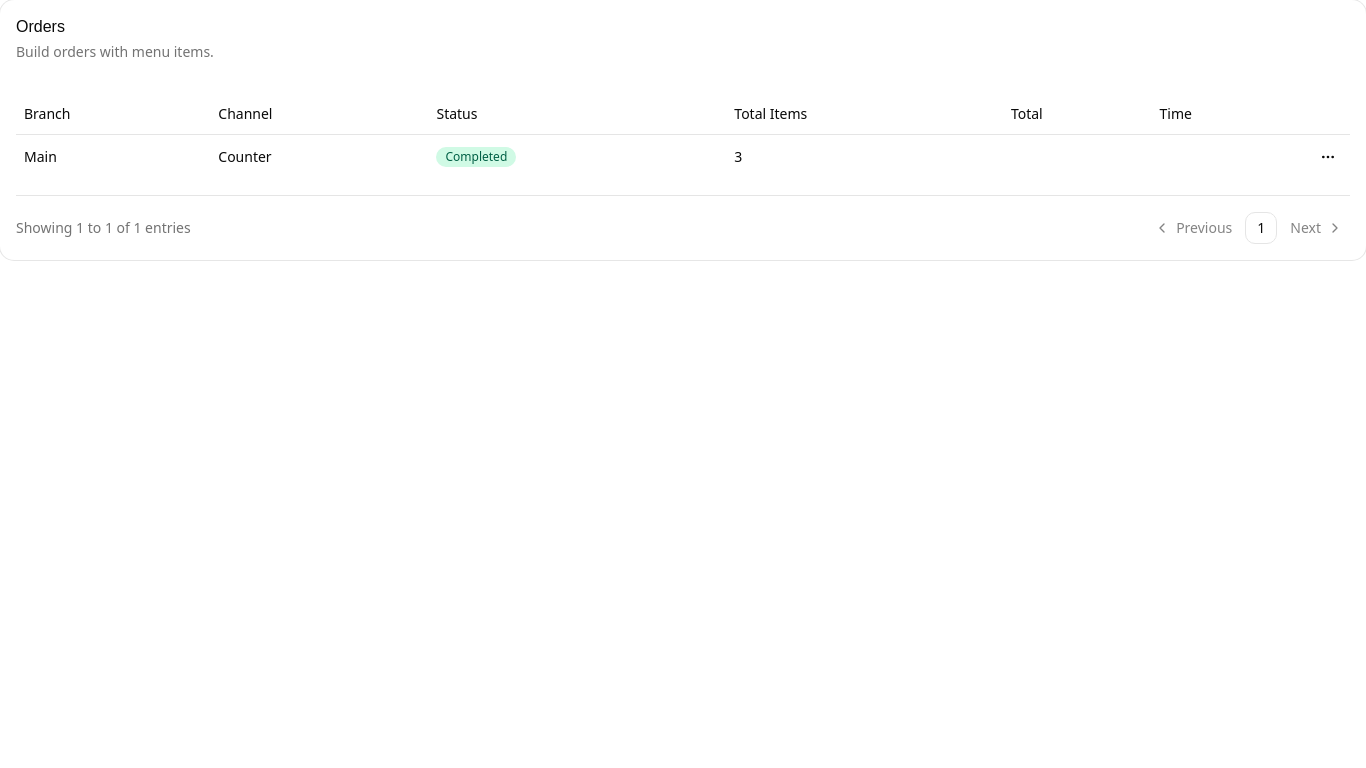
Order Invoice renders total for empty order
Click the button with test id "row-action-button}" at (1328, 156), box [1314,142,1342,170]
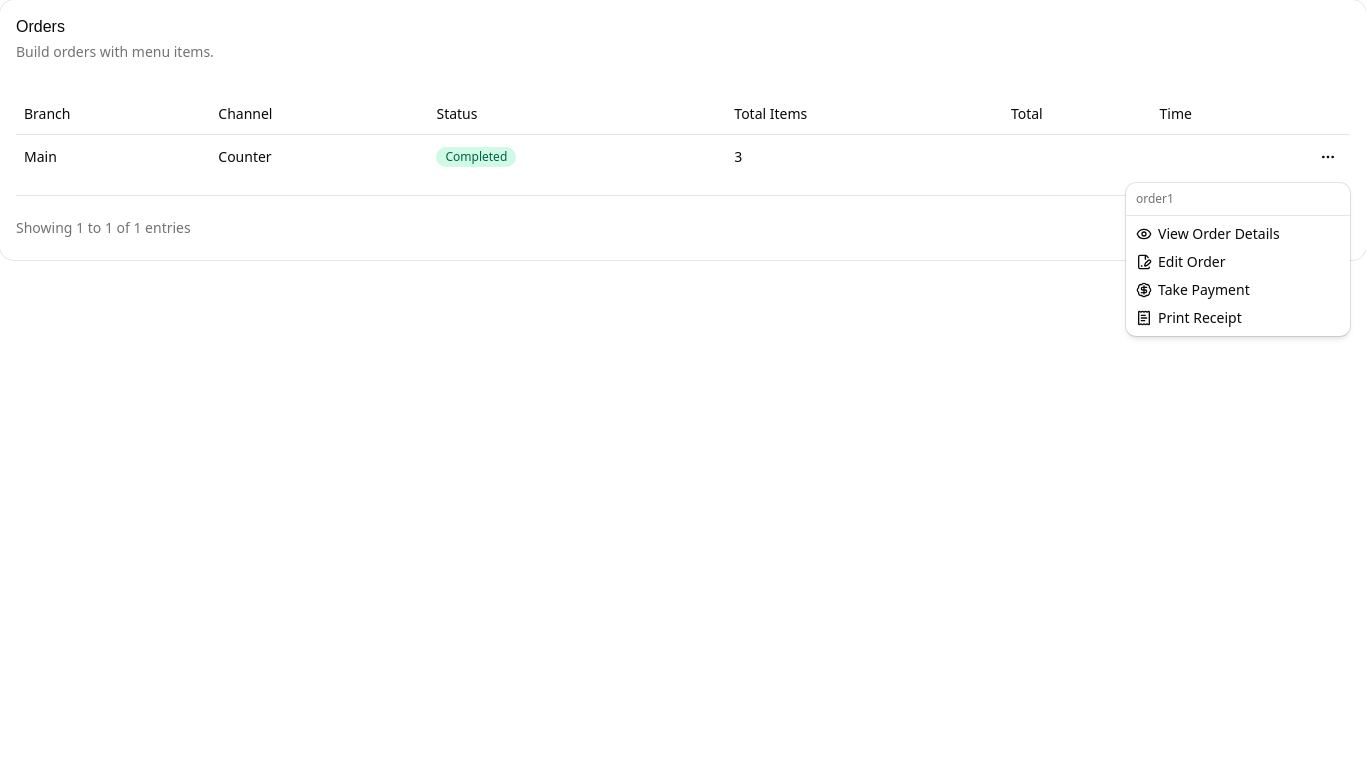
Click the menu item with test id "row-action-item-Print Receipt" at (1189, 318), box [1136,308,1242,327]
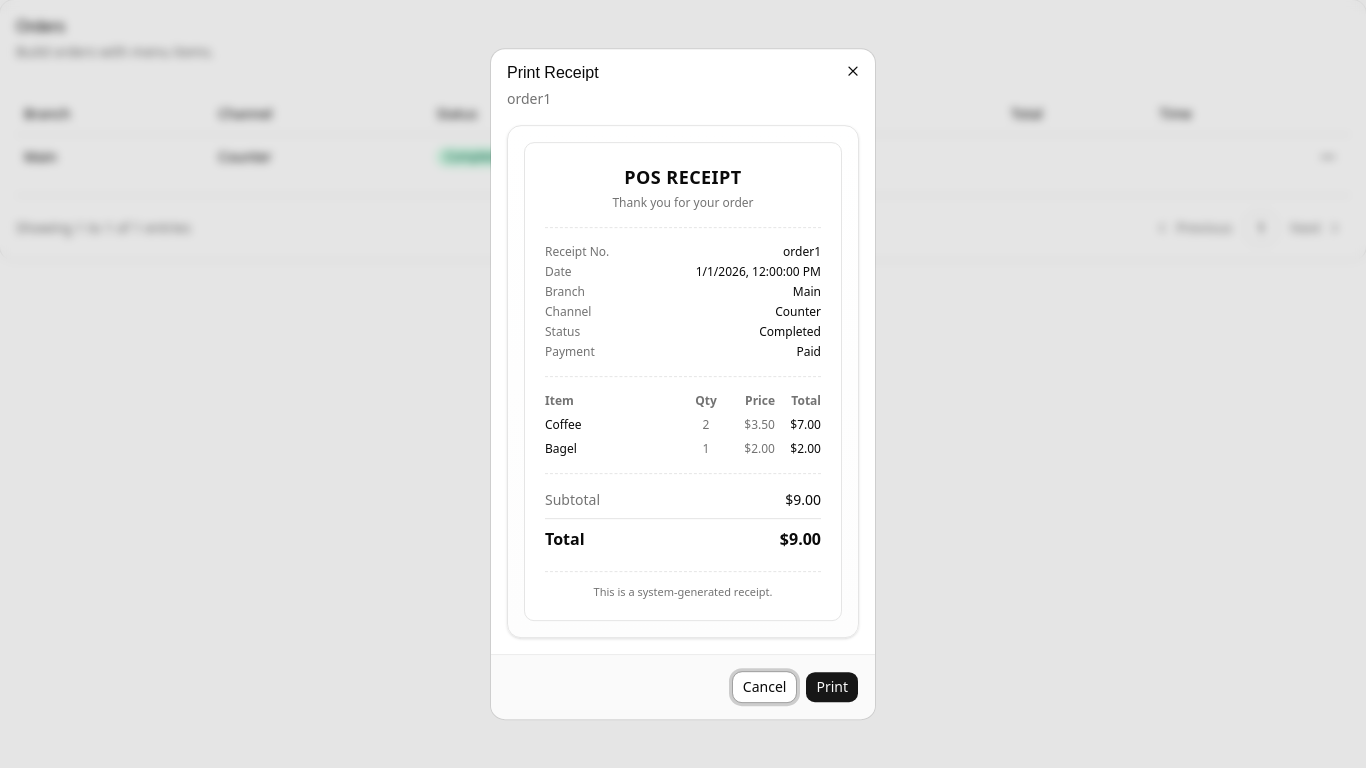
Expected: the text "Coffee" is shown, [545,416,582,433]
Expected: the text "Bagel" is shown, [545,440,577,457]
Expected: the text "$7.00" is shown, [790,416,821,433]
